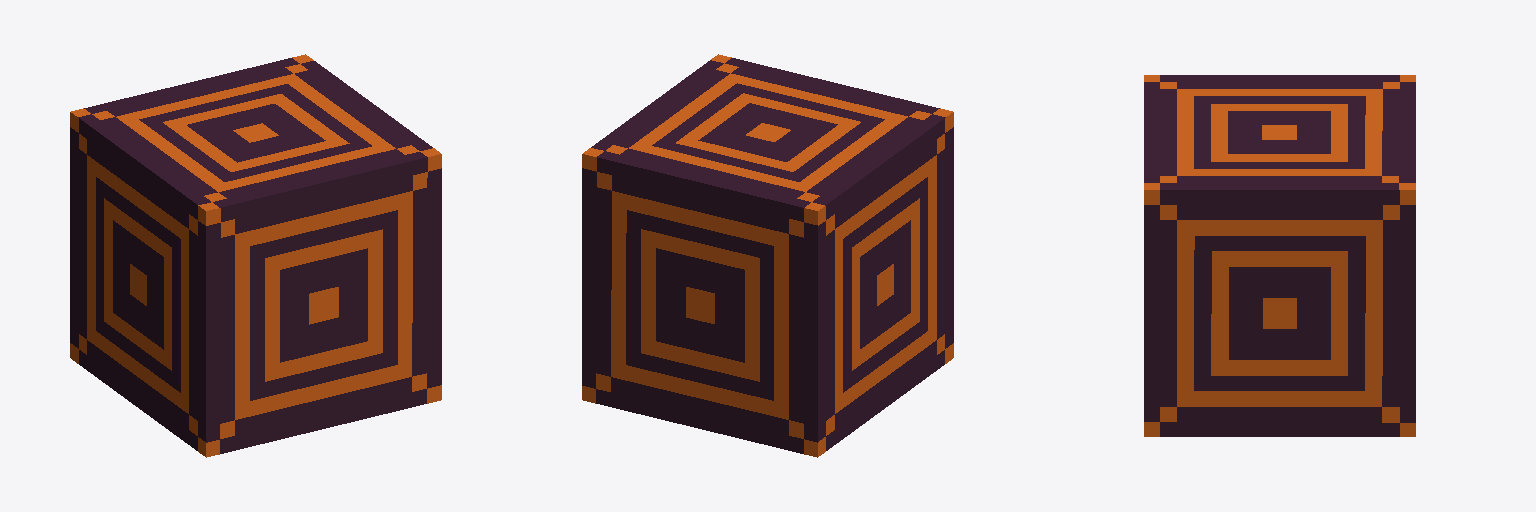
The picture shows the model from 3 angles: view 1: azimuth 30°, elevation 25°; view 2: azimuth 150°, elevation 25°; view 3: azimuth 270°, elevation 25°; orthographic projection.
Visible parts, largest first — view 1: Cube; view 2: Cube; view 3: Cube.
Part boxes in pixels (x1,y1,x2,y2): Cube: (70,54,441,457); Cube: (582,54,953,457); Cube: (1144,75,1415,436).
Size of the model in its own units: 2 by 2 by 2.
1 materials, 1 textured.